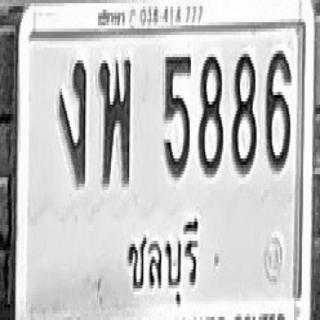A07: (58, 56, 86, 186)
A30: (98, 56, 131, 186)
N05: (163, 51, 192, 177)
N06: (265, 46, 291, 170)
N08: (231, 49, 257, 173), (197, 52, 223, 176)
P13: (124, 216, 203, 314)
